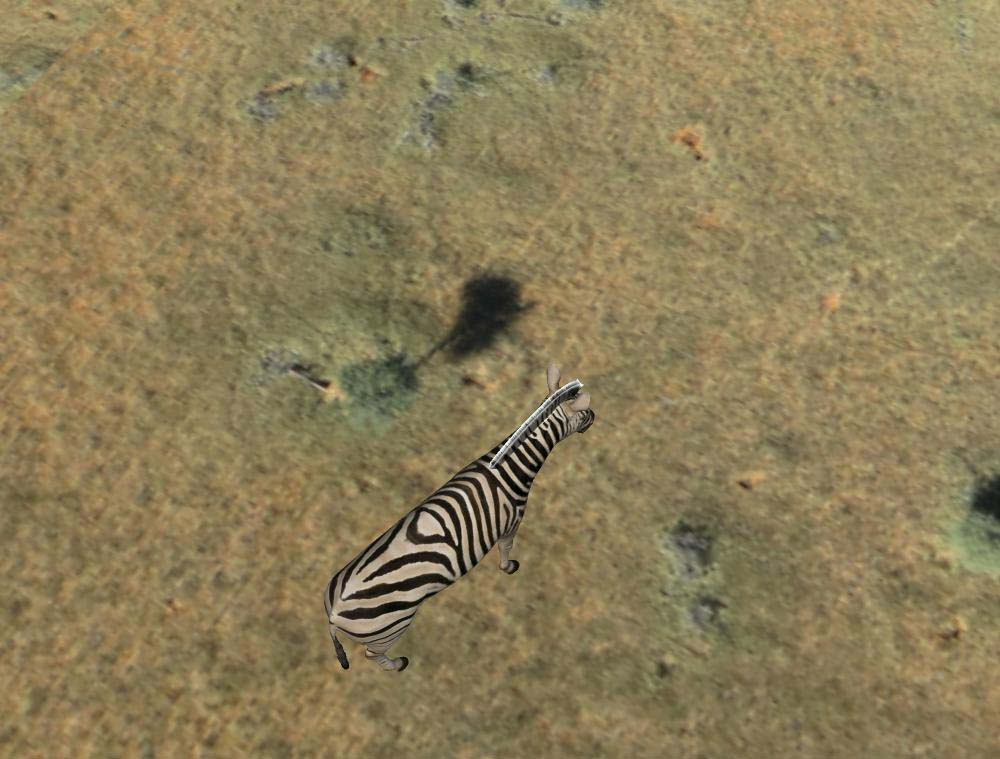zebra: (325, 365, 599, 681)
